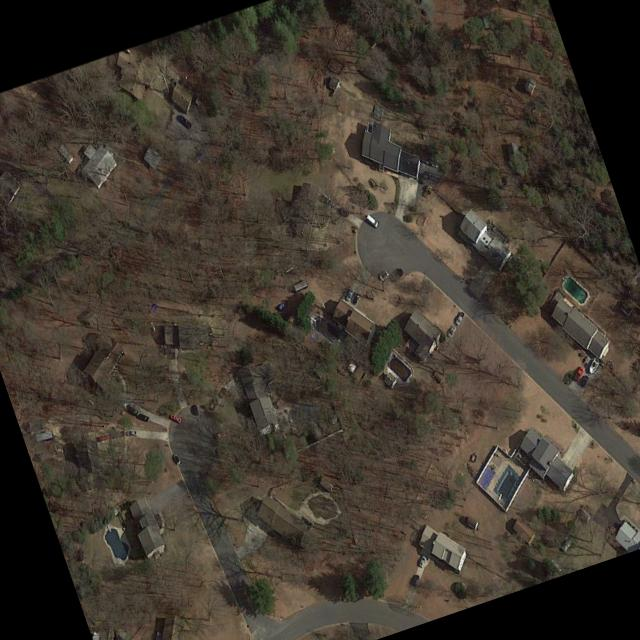ship: (586, 356, 600, 375), (557, 537, 574, 552)
small-vehicle: (175, 113, 193, 130), (386, 267, 403, 283), (571, 364, 585, 380), (365, 214, 379, 229), (417, 169, 430, 185), (575, 374, 588, 388), (122, 404, 136, 417), (316, 194, 331, 206), (377, 269, 390, 281), (445, 326, 457, 338), (94, 434, 110, 443), (168, 413, 181, 424), (207, 398, 218, 411), (348, 293, 359, 306), (109, 430, 123, 440), (212, 430, 226, 440), (136, 413, 150, 423), (336, 207, 348, 218), (343, 289, 353, 302), (416, 554, 426, 567), (453, 314, 463, 326), (112, 406, 124, 416), (216, 387, 226, 399), (410, 573, 419, 586), (172, 454, 181, 465), (190, 405, 198, 417), (126, 431, 137, 436)
